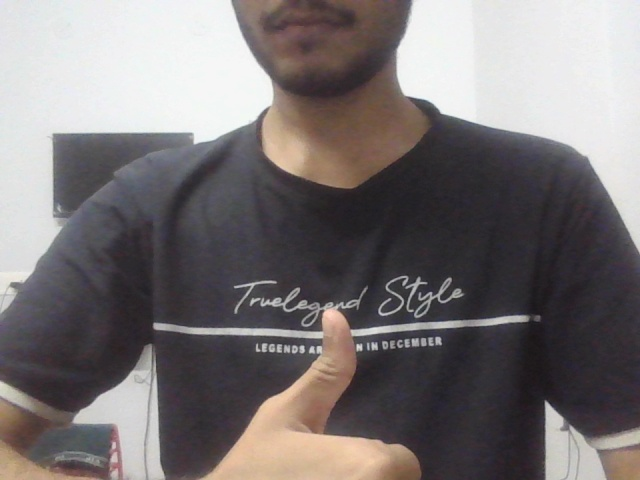Help: (159, 267, 436, 480)
